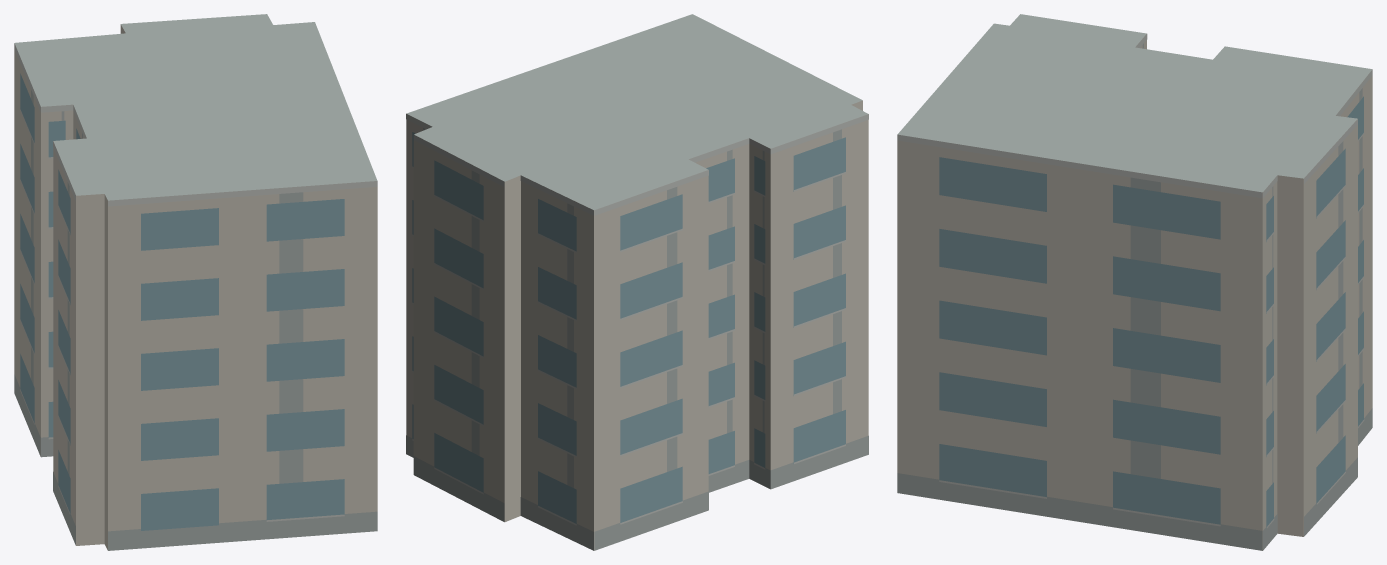
The model's file is survey-upis-32566703.glb.
The picture shows the model from 3 angles, left to right: view 1: azimuth 30°, elevation 25°; view 2: azimuth 150°, elevation 25°; view 3: azimuth 270°, elevation 25°; orthographic projection. The views are drawn at different scales.
Parts seen in each view (by area): view 1: survey-upis-32566703.tmp; view 2: survey-upis-32566703.tmp; view 3: survey-upis-32566703.tmp.
Boxes of the visible parts, bbox=[...] form: survey-upis-32566703.tmp: bbox=[14, 14, 377, 550]; survey-upis-32566703.tmp: bbox=[406, 14, 868, 550]; survey-upis-32566703.tmp: bbox=[897, 14, 1372, 550].
Size of the model in its own units: 15.52 by 14.53 by 17.47.
